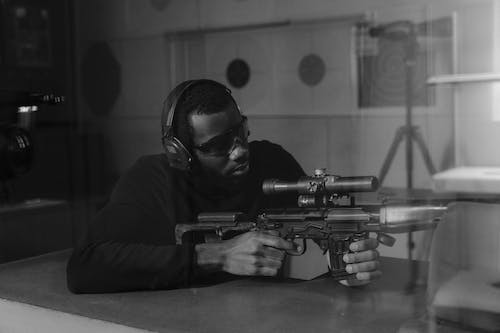gun: (172, 167, 452, 285)
